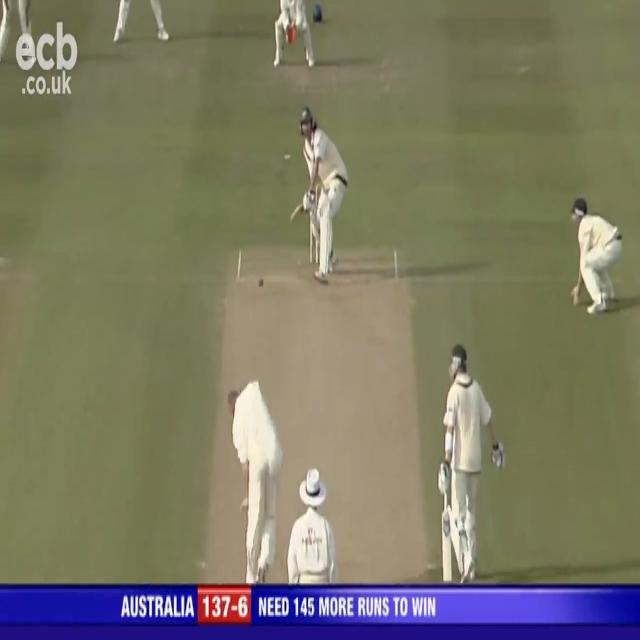ball: (256, 274, 266, 292)
